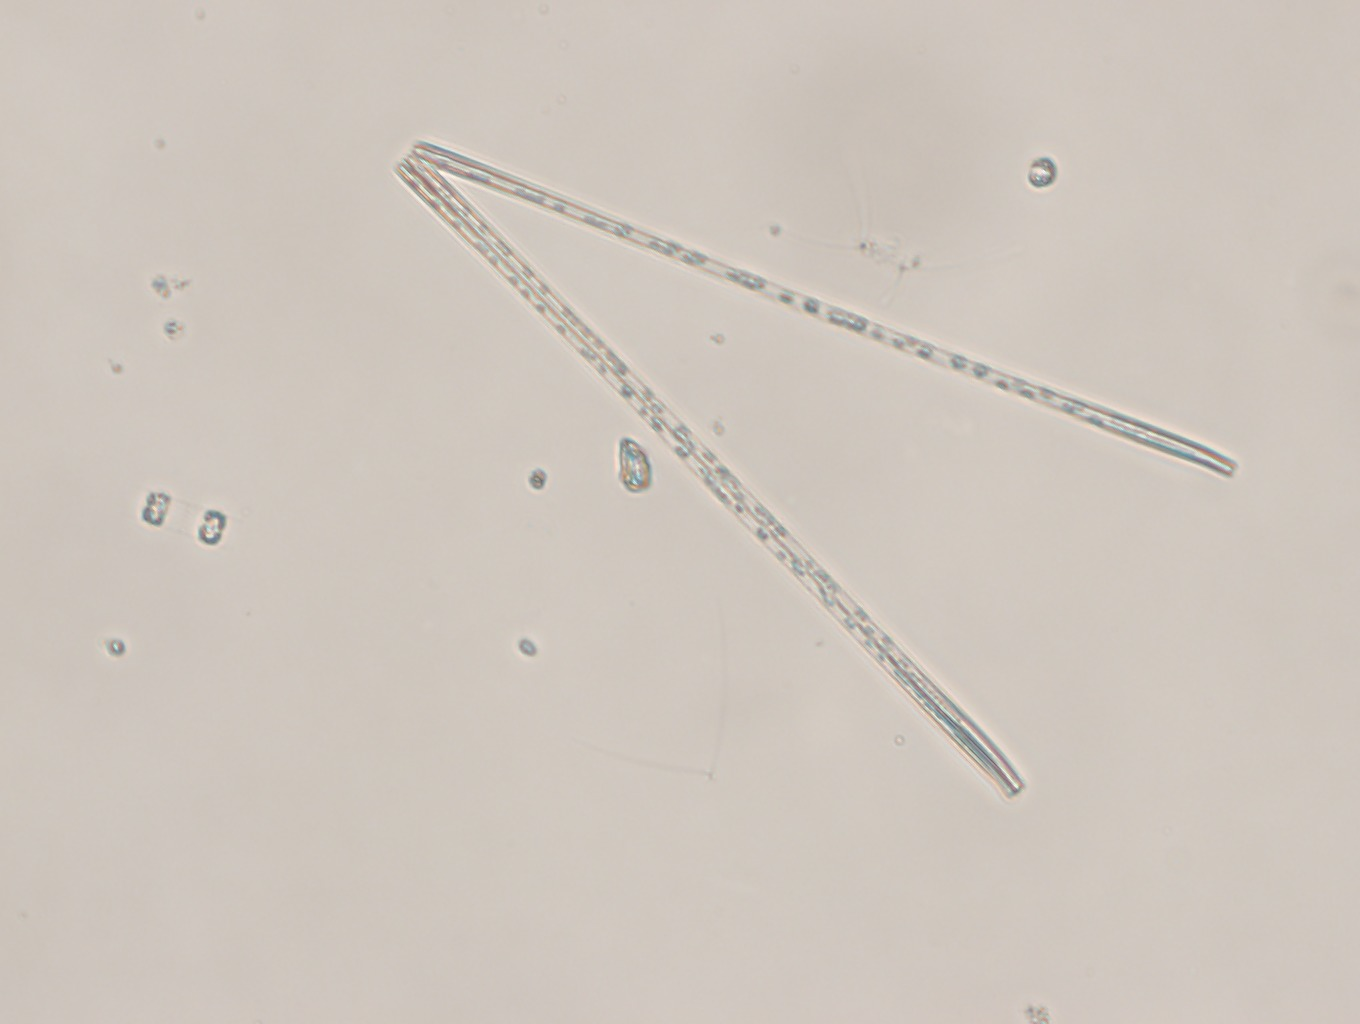thalassionema frauenfeldii: (389, 130, 1239, 805)
